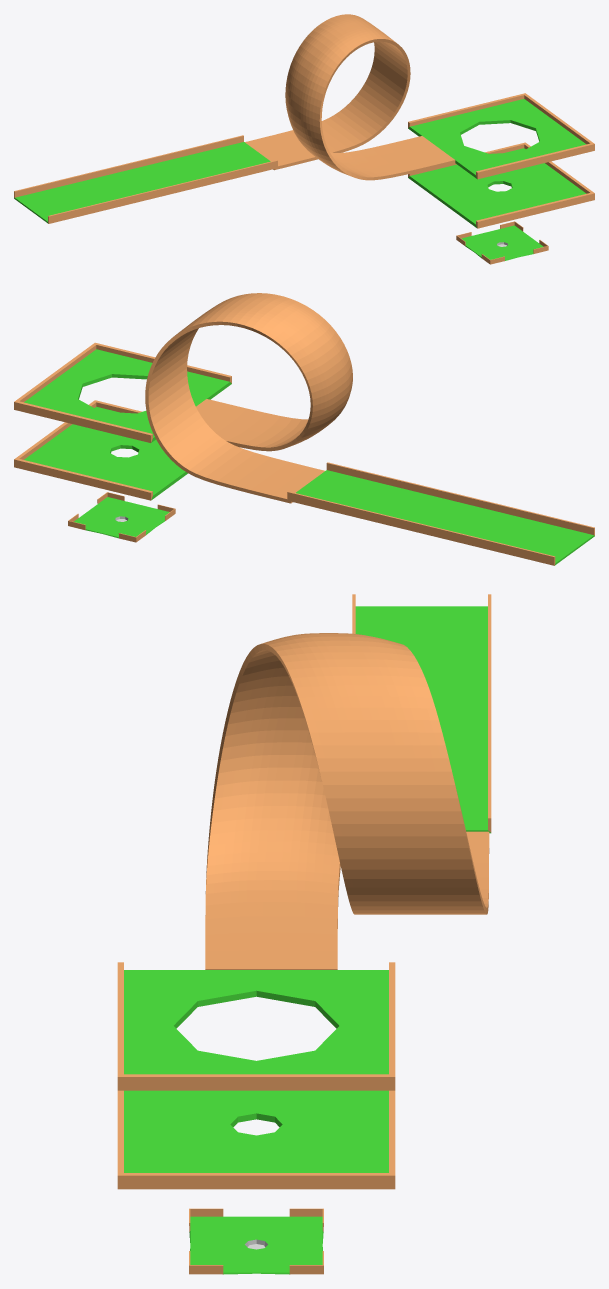
File: m-golf-holes-003.glb
The picture shows the model from 3 angles, top to bottom: view 1: azimuth 30°, elevation 25°; view 2: azimuth 150°, elevation 25°; view 3: azimuth 270°, elevation 25°; orthographic projection. The views are drawn at different scales.
Parts seen in each view (by area): view 1: 3_Loop_1_Visual, 3_Track1_Visual, 3_Flat_Section_2_Visual, 3_Flat_Section_1_Visual, 3_Hole_End_Visual; view 2: 3_Loop_1_Visual, 3_Track1_Visual, 3_Flat_Section_2_Visual, 3_Flat_Section_1_Visual, 3_Hole_End_Visual; view 3: 3_Loop_1_Visual, 3_Flat_Section_2_Visual, 3_Flat_Section_1_Visual, 3_Track1_Visual, 3_Hole_End_Visual.
Boxes of the visible parts, x1=… form: 3_Loop_1_Visual: x1=245, y1=14, x2=455, y2=180; 3_Track1_Visual: x1=14, y1=135, x2=277, y2=223; 3_Flat_Section_2_Visual: x1=408, y1=142, x2=594, y2=228; 3_Flat_Section_1_Visual: x1=408, y1=93, x2=594, y2=179; 3_Hole_End_Visual: x1=456, y1=221, x2=548, y2=264; 3_Loop_1_Visual: x1=145, y1=293, x2=352, y2=503; 3_Track1_Visual: x1=287, y1=462, x2=594, y2=565; 3_Flat_Section_2_Visual: x1=14, y1=400, x2=187, y2=500; 3_Flat_Section_1_Visual: x1=14, y1=342, x2=231, y2=442; 3_Hole_End_Visual: x1=68, y1=492, x2=175, y2=542; 3_Loop_1_Visual: x1=205, y1=633, x2=489, y2=969; 3_Flat_Section_2_Visual: x1=117, y1=1090, x2=395, y2=1189; 3_Flat_Section_1_Visual: x1=117, y1=962, x2=395, y2=1090; 3_Track1_Visual: x1=352, y1=594, x2=491, y2=833; 3_Hole_End_Visual: x1=189, y1=1208, x2=323, y2=1274.
Size of what is drawn, in the model's own units: 17.01 by 7.9 by 5.65.
